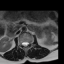CCS_normal: (24, 39, 26, 49)
LFS_normal: (28, 40, 31, 46)
LLS_normal: (26, 40, 28, 47)
RFS_normal: (20, 40, 22, 47)
RLS_normal: (22, 40, 24, 47)
